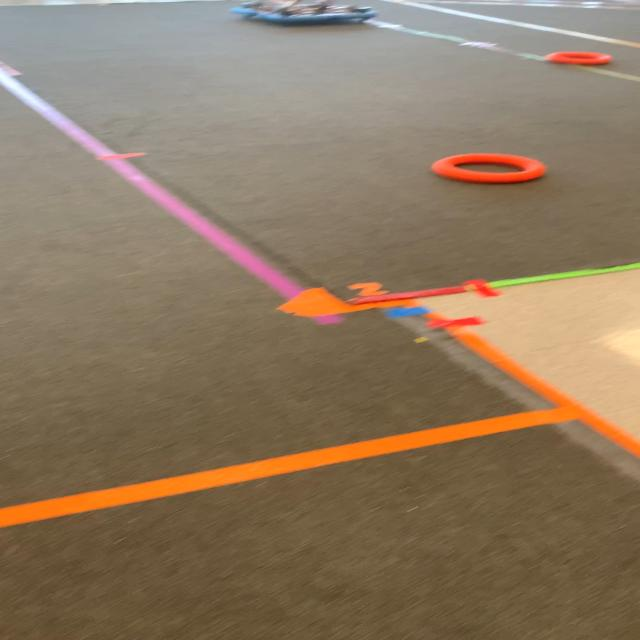notes: (430, 154, 548, 184), (551, 50, 613, 66)
